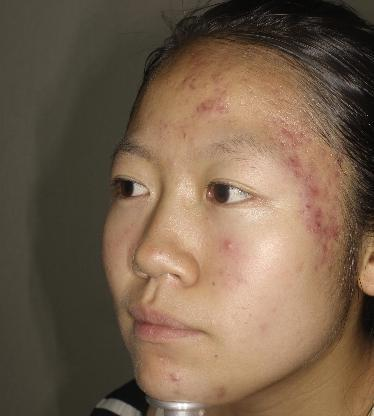Blackheads: (301, 200, 314, 213), (312, 220, 324, 233)
Papules: (216, 237, 240, 256), (165, 369, 186, 384)
